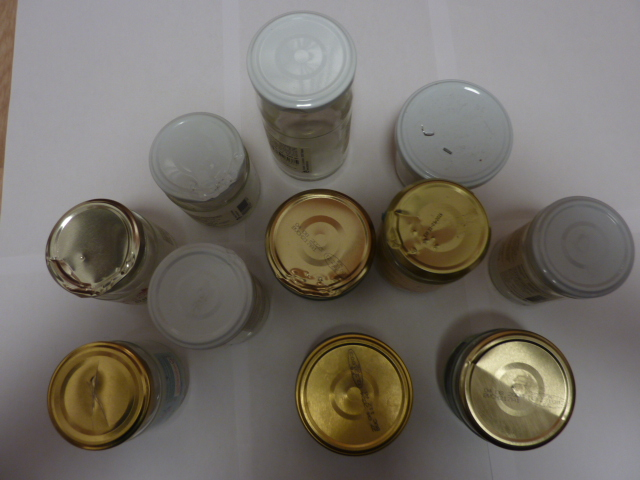damaged: (455, 329, 577, 452), (266, 188, 374, 300), (44, 344, 153, 451), (146, 242, 254, 348), (44, 197, 141, 297), (148, 113, 247, 204)
intact: (293, 332, 413, 458), (247, 12, 357, 110), (533, 194, 633, 298)
